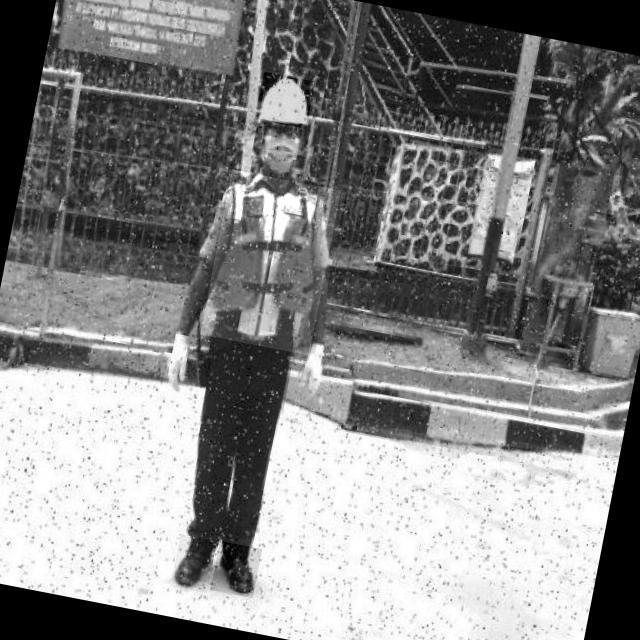Gloves: (292, 330, 338, 404), (162, 329, 199, 406)
Helmet: (256, 72, 316, 129)
Person: (143, 54, 349, 608)
Safety Boot: (211, 541, 263, 598), (170, 535, 217, 595)
Safety Vest: (200, 170, 341, 356)
